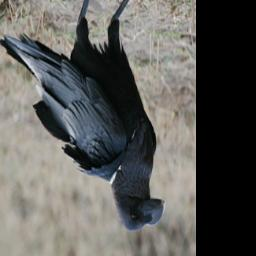Crow: (0, 0, 167, 232)
